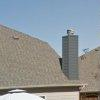Chimney: (57, 20, 83, 82)
